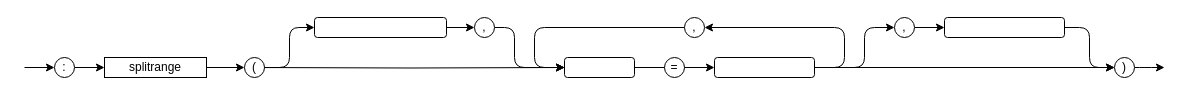
The diagram is 1190 pixels wide and 95 high, and some of its shapes have lost their labels. The centre of each missing label's shape, as x and y in pixels:
attribute expression: (380,27)
default expression: (1004,27)
expression: (764,67)
threshold: (599,67)
